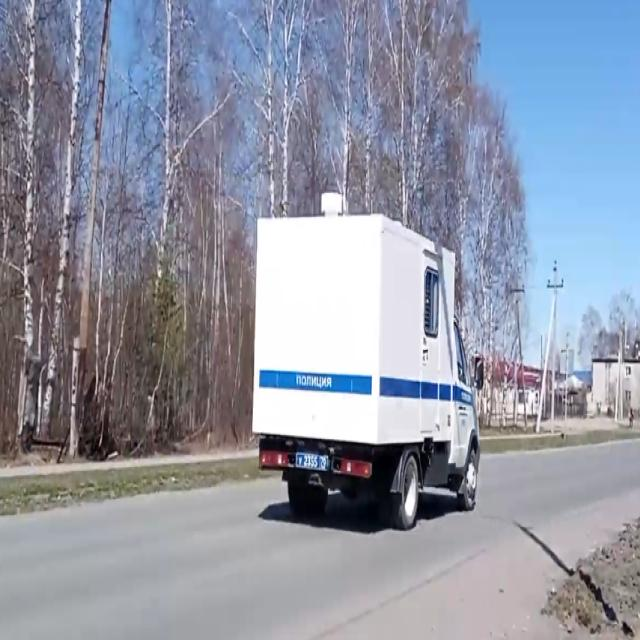police car: (253, 193, 483, 531)
